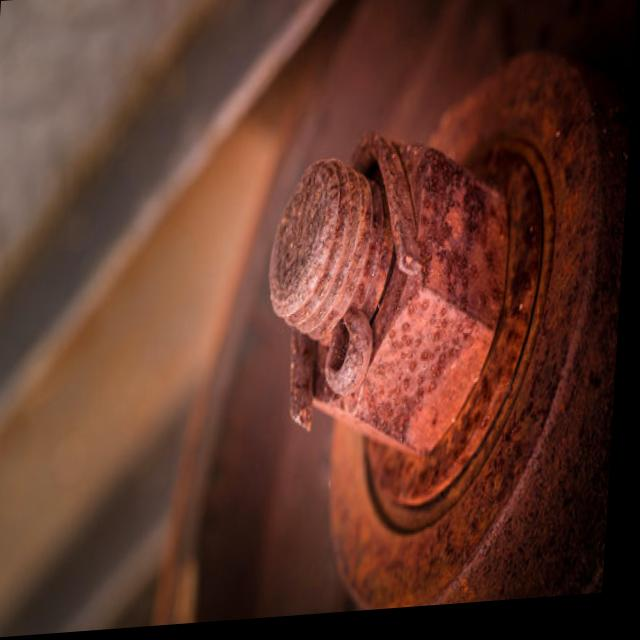Rusty bolt: (263, 136, 518, 480)
